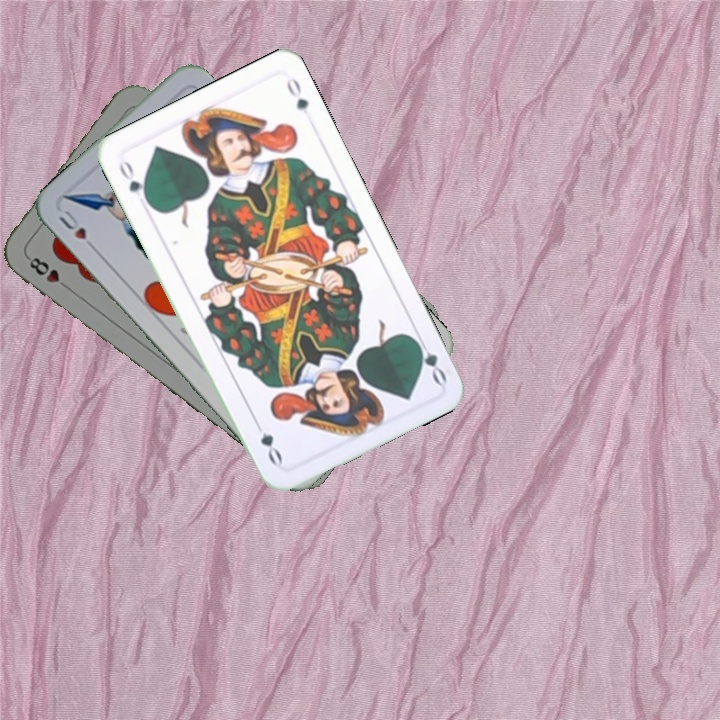GO: (409, 331, 450, 387), (114, 155, 153, 208)
H8: (23, 253, 73, 293)
HU: (55, 206, 100, 255)
